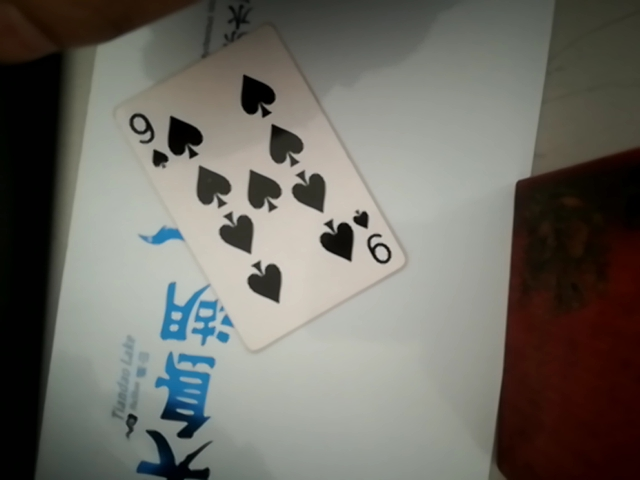ht 9: (106, 12, 411, 364)
